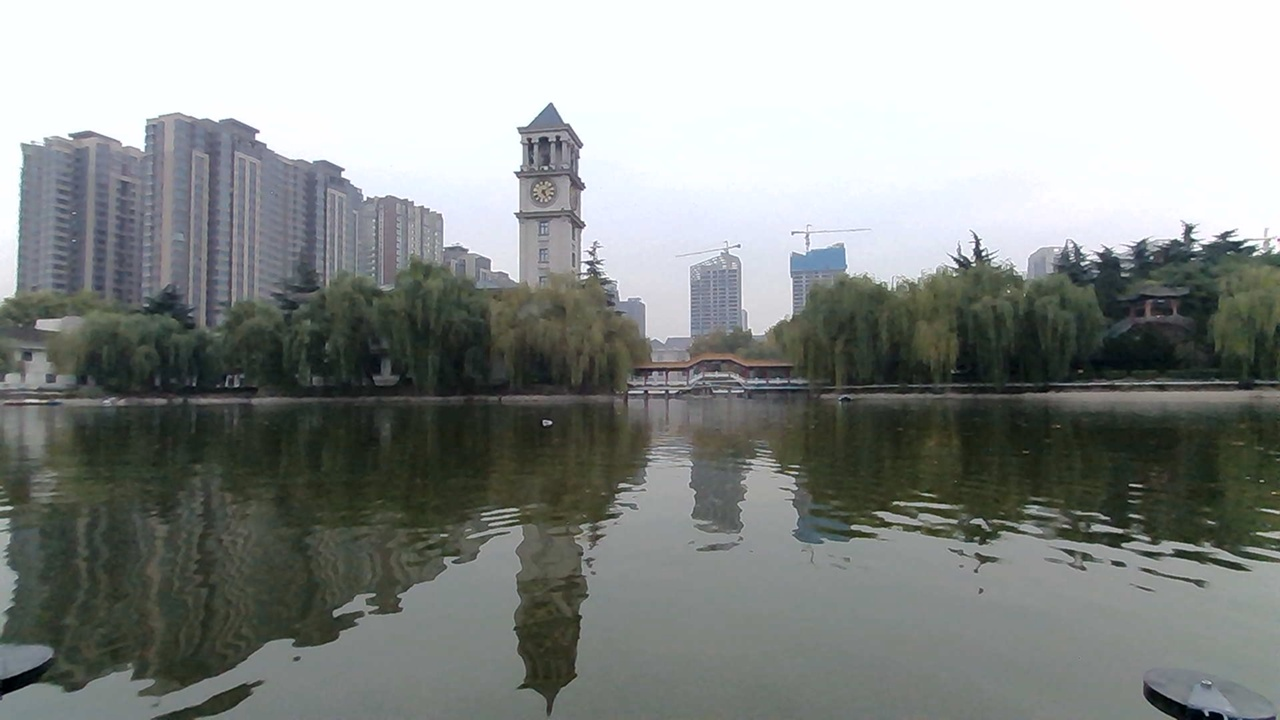bottle: (528, 413, 559, 434)
